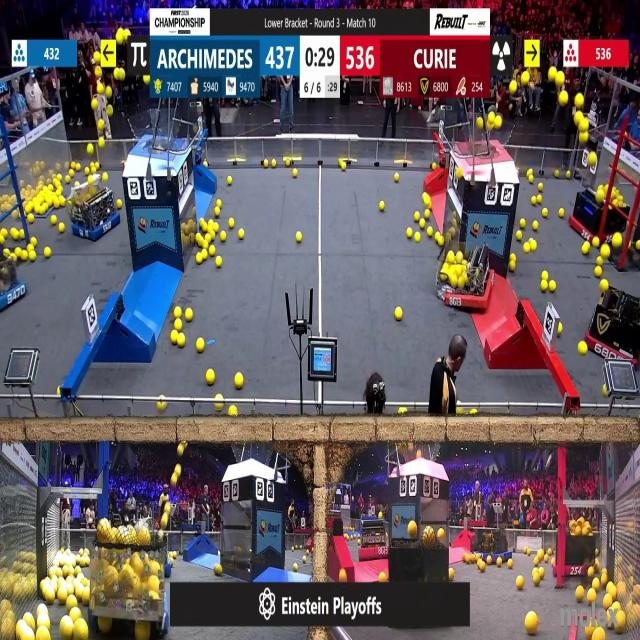ball_airborne: (98, 520, 112, 542), (574, 94, 583, 110), (559, 92, 569, 106), (162, 514, 170, 530), (114, 68, 124, 80), (557, 72, 565, 87), (522, 72, 530, 86), (578, 132, 587, 144), (581, 119, 590, 131), (494, 115, 502, 128), (511, 80, 518, 94), (589, 152, 597, 164), (546, 68, 554, 80), (116, 31, 123, 43), (478, 117, 485, 128), (96, 67, 102, 79), (178, 445, 184, 457), (172, 475, 178, 487), (95, 54, 101, 66), (88, 144, 95, 154), (574, 111, 581, 121), (106, 88, 112, 99), (165, 502, 171, 513), (107, 105, 113, 116), (93, 99, 99, 110), (175, 464, 181, 475), (488, 112, 494, 123), (123, 29, 128, 42), (98, 85, 104, 95), (99, 138, 105, 148), (144, 74, 150, 84), (99, 119, 104, 129), (417, 451, 422, 459)
ball_ground: (526, 614, 538, 636), (616, 614, 626, 635), (36, 628, 49, 640), (409, 521, 418, 537), (614, 234, 623, 250), (44, 590, 54, 604), (575, 588, 584, 603), (206, 371, 215, 385), (59, 590, 68, 604), (236, 374, 244, 389), (514, 575, 522, 590), (594, 630, 606, 640), (578, 342, 586, 356), (588, 590, 596, 604), (81, 590, 89, 604), (70, 608, 80, 619), (26, 616, 35, 628), (184, 309, 192, 322), (340, 568, 348, 581), (603, 596, 611, 609), (602, 245, 610, 258), (198, 339, 205, 353), (549, 280, 557, 292), (600, 280, 608, 292), (532, 573, 540, 585), (68, 594, 76, 606), (178, 335, 185, 348), (395, 308, 402, 321), (434, 233, 441, 246), (214, 564, 222, 575), (174, 308, 182, 319), (539, 281, 547, 292), (524, 242, 531, 254), (423, 196, 430, 208), (230, 408, 238, 418), (10, 230, 18, 240), (172, 332, 178, 345), (175, 319, 182, 330), (530, 241, 537, 252), (479, 561, 486, 572), (584, 243, 590, 255), (159, 401, 167, 410), (212, 222, 220, 231), (380, 572, 387, 582), (209, 246, 216, 256), (29, 251, 36, 261), (510, 263, 517, 273), (464, 554, 471, 564), (593, 580, 600, 590), (216, 256, 222, 267), (295, 233, 301, 244), (44, 247, 50, 258), (449, 568, 455, 579), (194, 234, 200, 245), (557, 324, 563, 335), (540, 272, 547, 281), (593, 239, 600, 248), (419, 219, 426, 228), (380, 202, 386, 212), (220, 232, 226, 242), (195, 253, 201, 263), (596, 268, 602, 278), (532, 220, 538, 230), (517, 232, 523, 242), (427, 229, 433, 239), (496, 558, 502, 568), (415, 233, 421, 243), (214, 207, 220, 217), (227, 218, 233, 228), (541, 208, 547, 218), (589, 567, 595, 577), (23, 251, 29, 261), (202, 221, 208, 231), (209, 232, 215, 242), (60, 198, 66, 208), (538, 567, 544, 577), (596, 256, 603, 264), (215, 402, 222, 410), (203, 240, 210, 248), (115, 201, 122, 209), (284, 160, 291, 168), (602, 385, 607, 396), (226, 176, 232, 185), (424, 210, 430, 219), (18, 231, 24, 240), (28, 214, 34, 223), (291, 169, 297, 178), (520, 219, 526, 228), (0, 230, 6, 239), (239, 230, 244, 240), (60, 222, 65, 232), (203, 250, 208, 260), (50, 216, 56, 224), (528, 175, 534, 183), (536, 194, 542, 202), (414, 212, 420, 220), (566, 172, 572, 180), (14, 248, 20, 256), (532, 559, 538, 567), (456, 410, 462, 418), (559, 209, 564, 218), (394, 173, 399, 182), (408, 230, 413, 239), (31, 239, 36, 248), (103, 173, 108, 182), (216, 394, 222, 401), (84, 168, 90, 175), (524, 545, 530, 552), (511, 253, 517, 260), (68, 170, 74, 177), (507, 560, 512, 568), (555, 170, 560, 178), (216, 200, 221, 208), (342, 162, 347, 170), (636, 241, 640, 251), (272, 162, 277, 170), (82, 576, 87, 584), (532, 197, 536, 206), (66, 176, 71, 183), (293, 564, 297, 572), (538, 183, 542, 191), (265, 161, 269, 169), (488, 557, 492, 565), (543, 556, 547, 564), (90, 176, 94, 184), (205, 162, 209, 170), (528, 170, 532, 177), (431, 164, 435, 171), (553, 560, 557, 566), (346, 535, 349, 540)
goal: (129, 115, 186, 152), (462, 120, 516, 158)
robot_blue: (70, 182, 121, 243), (0, 250, 26, 311), (474, 528, 514, 564)
robot_red: (585, 295, 634, 362), (435, 250, 487, 310), (571, 185, 620, 242), (561, 518, 598, 576), (356, 515, 388, 559)
